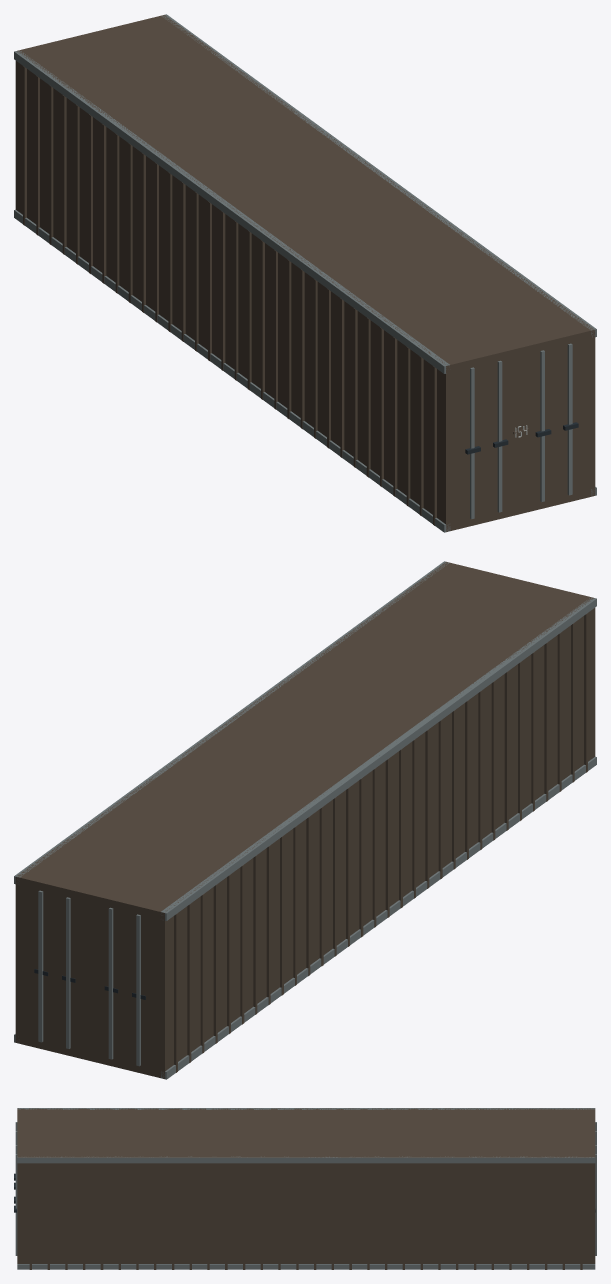
Rendered from container-2.glb.
3 renders of one model, top to bottom at view 1: azimuth 30°, elevation 25°; view 2: azimuth 150°, elevation 25°; view 3: azimuth 270°, elevation 25°, orthographic. The views are drawn at different scales.
Parts seen in each view (by area): view 1: container/1/KR-230-2; view 2: container/1/KR-230-2; view 3: container/1/KR-230-2.
Boxes of the visible parts, box(x1,y1,x2,y2) form: container/1/KR-230-2: box(14, 14, 596, 532); container/1/KR-230-2: box(14, 561, 596, 1079); container/1/KR-230-2: box(14, 1108, 596, 1269).
Bounding box in the file's own units: 2.51 × 2.6 × 12.31.
